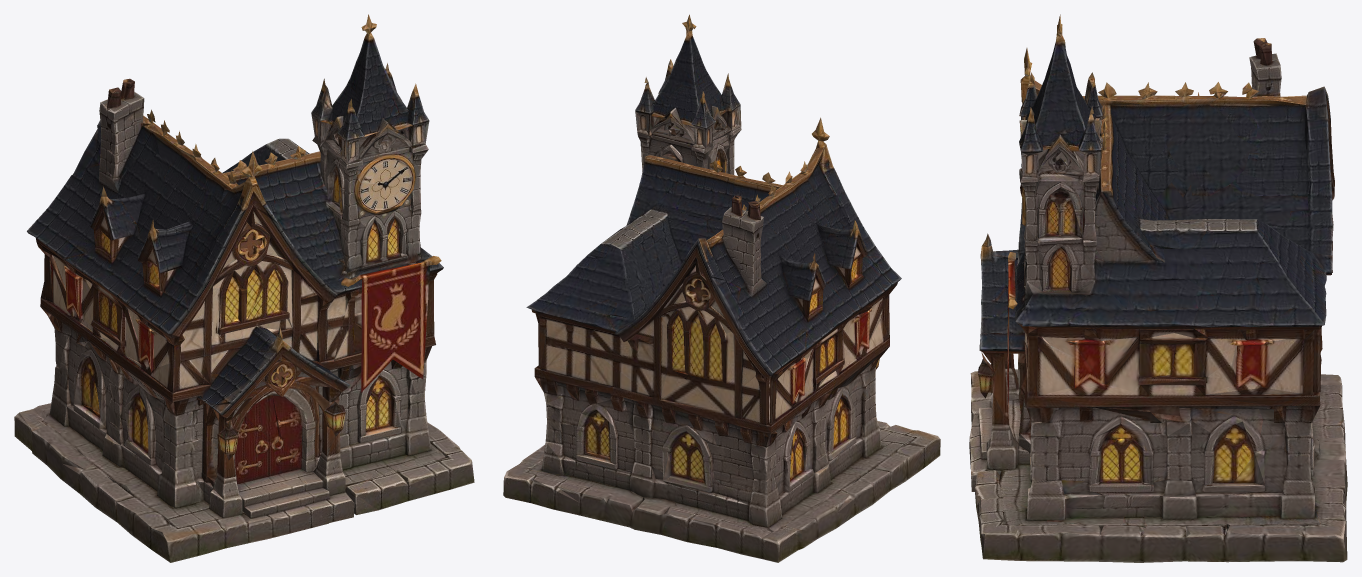
The model's file is hall.glb.
3 views of the same model, side by side, from view 1: azimuth 30°, elevation 25°; view 2: azimuth 150°, elevation 25°; view 3: azimuth 270°, elevation 25° (orthographic). The views are drawn at different scales.
Size of the model in its own units: 1.37 by 1.9 by 1.28.
1 material, 1 textured.
